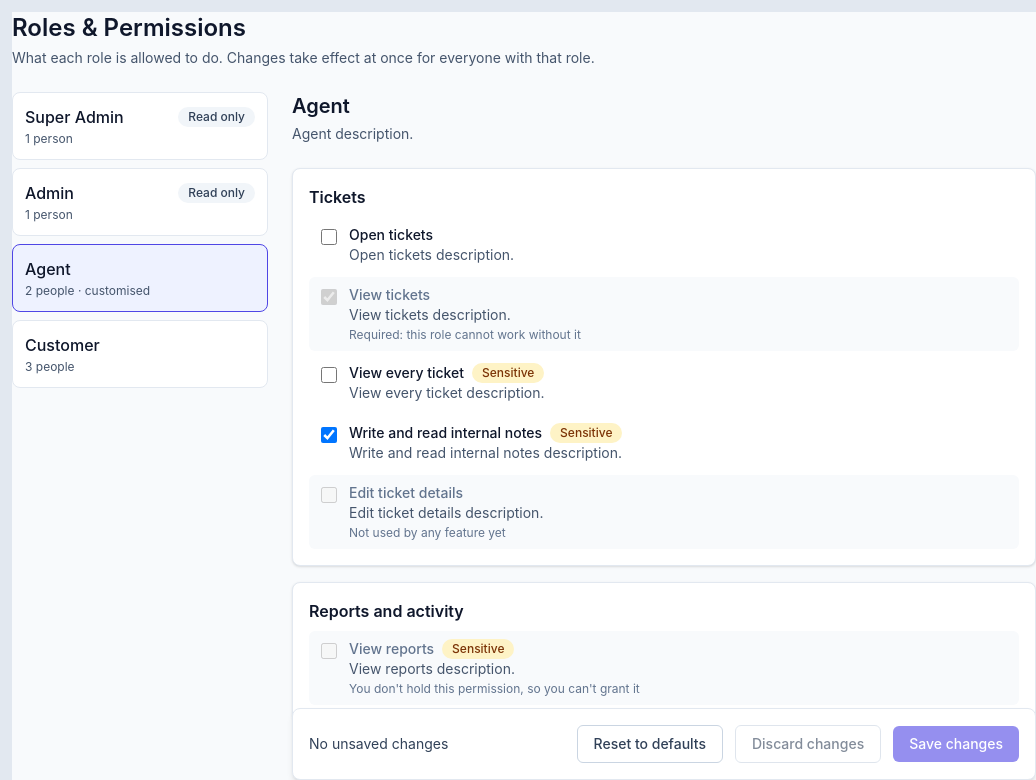
Test case: RolesPage › shows what is changed and lets you discard it
expect the heading "Agent" is shown: met, box [292,94,350,118]
expect the button "Save changes" is disabled: met, box [893,726,1019,762]
Click the checkbox labelled "View every ticket Sensitive View every ticket description.". click: [329, 375]
box: [321,367,337,383]
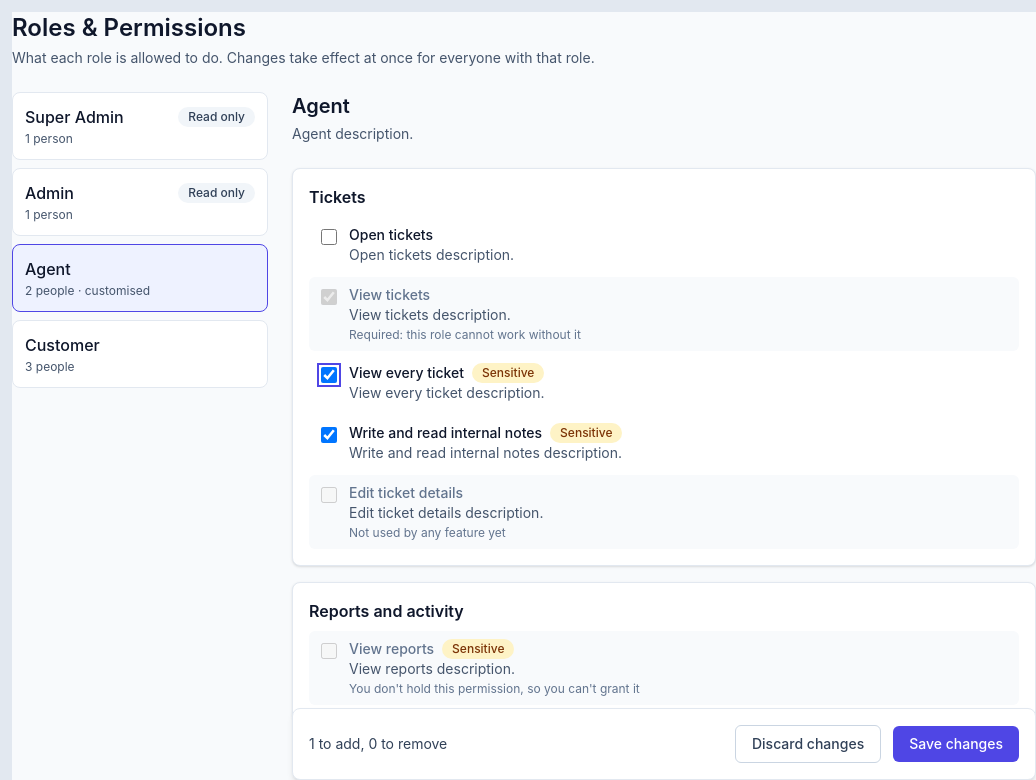
Click the 4th checkbox. click: [329, 435]
box: [321,427,337,443]
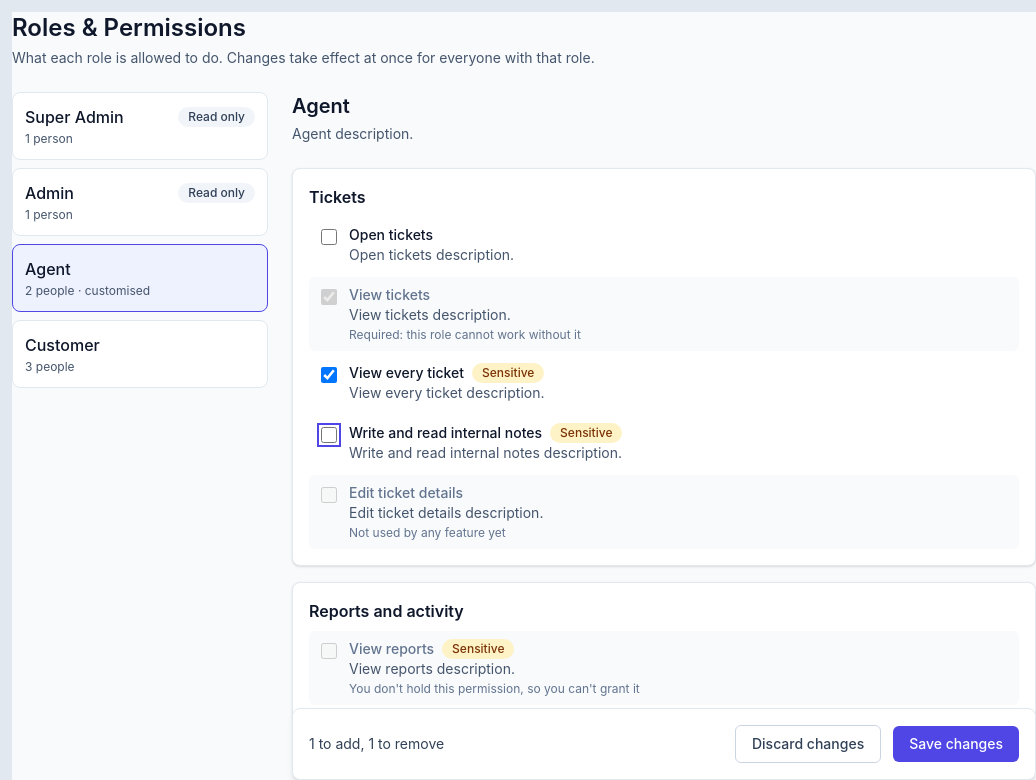
expect the button "Save changes" is enabled: met, box [893,726,1019,762]
expect the text "1 to add, 1 to remove" is shown: met, box [309,734,444,754]
Click the button "Discard changes". click: [808, 744]
box: [735,725,881,763]
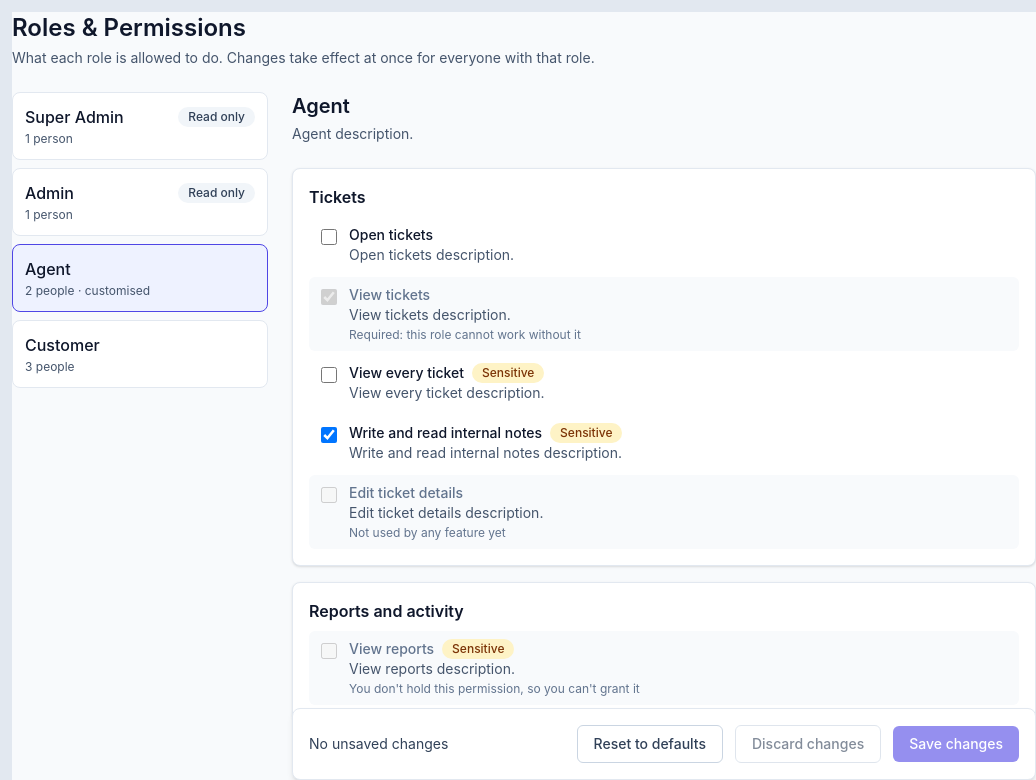
expect the text "No unsaved changes" is shown: met, box [309,734,448,754]
